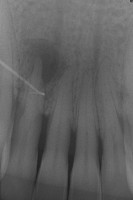Furcation Involvement: (18, 37, 67, 88)
